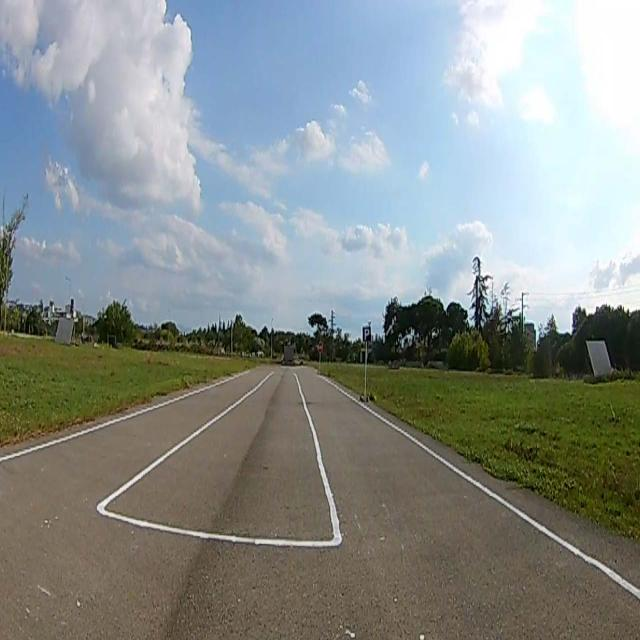park: (363, 327, 371, 342)
